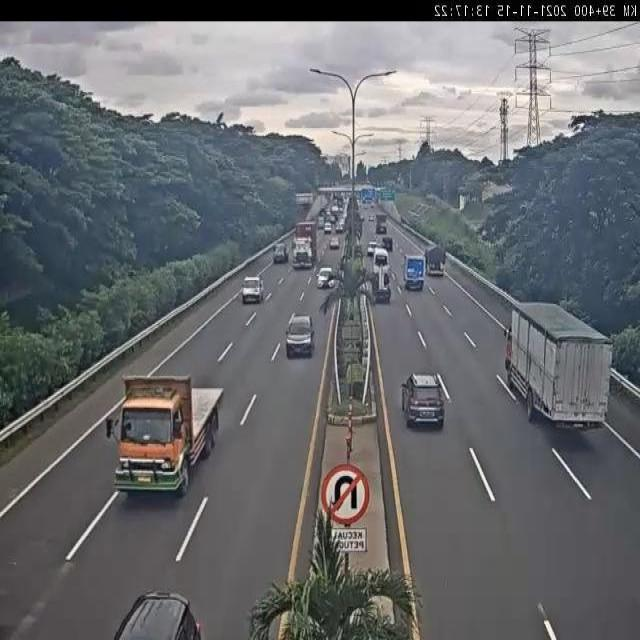Bus: (373, 247, 389, 268)
Car: (110, 590, 202, 640), (401, 374, 447, 429), (285, 312, 315, 358), (242, 276, 265, 304), (374, 269, 392, 304), (316, 266, 336, 290), (273, 243, 288, 263), (367, 241, 377, 257), (382, 236, 392, 252), (330, 236, 339, 249), (324, 222, 332, 234), (336, 222, 344, 233), (317, 219, 324, 230)
Truck: (503, 299, 612, 428), (108, 377, 225, 497), (293, 222, 317, 268), (402, 252, 427, 291), (426, 245, 447, 278)
